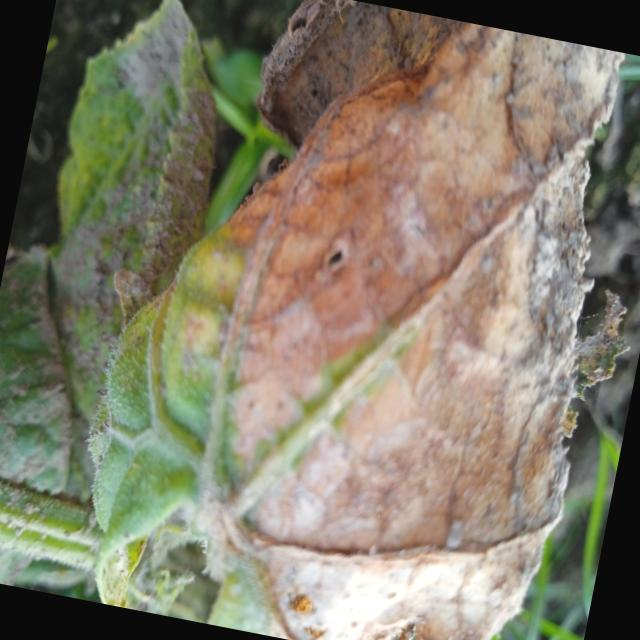cucumber_gummy: (52, 0, 640, 640), (6, 0, 234, 443), (0, 221, 117, 593)
